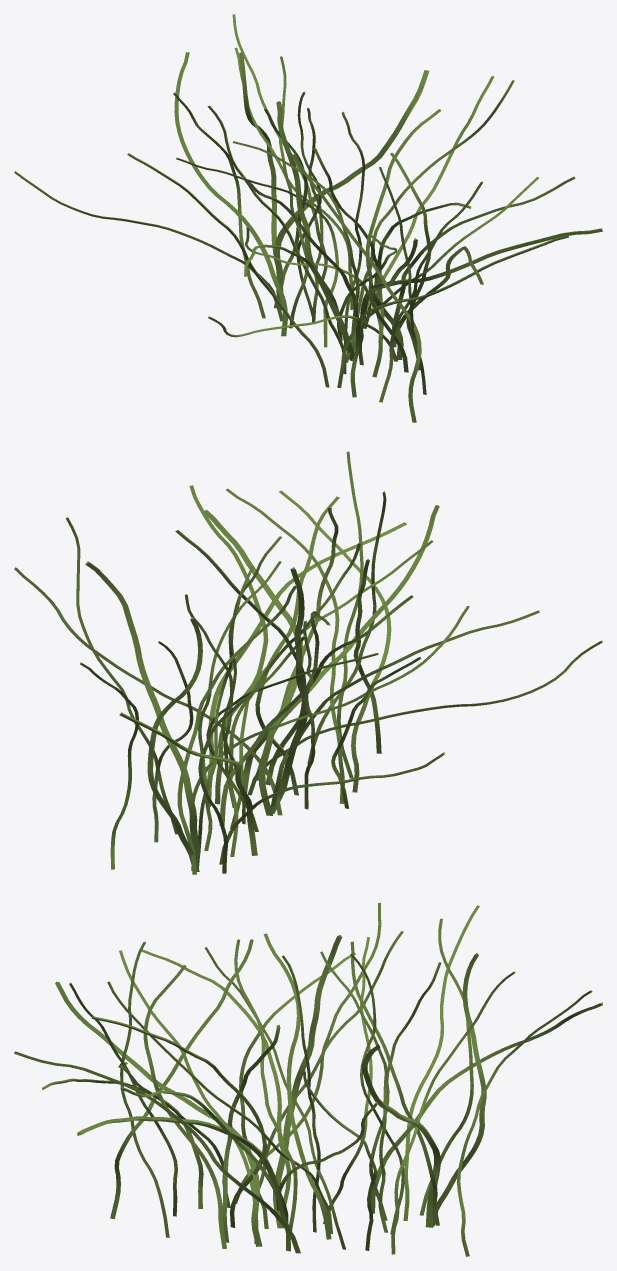
Rendered from plant_swamp_algea_long_curvy_light_C.fbx.
3 renders of one model, top to bottom at view 1: azimuth 30°, elevation 25°; view 2: azimuth 150°, elevation 25°; view 3: azimuth 270°, elevation 25°, orthographic. The views are drawn at different scales.
Visible parts, largest first — view 1: plant_swamp_algea_long_curvy_light_C; view 2: plant_swamp_algea_long_curvy_light_C; view 3: plant_swamp_algea_long_curvy_light_C.
Part boxes in pixels (left/top/right/bottom): plant_swamp_algea_long_curvy_light_C: left=14, top=14, right=602, bottom=422; plant_swamp_algea_long_curvy_light_C: left=14, top=451, right=602, bottom=874; plant_swamp_algea_long_curvy_light_C: left=14, top=903, right=602, bottom=1256.
Size of the model in its own units: 416 by 231 by 460.
